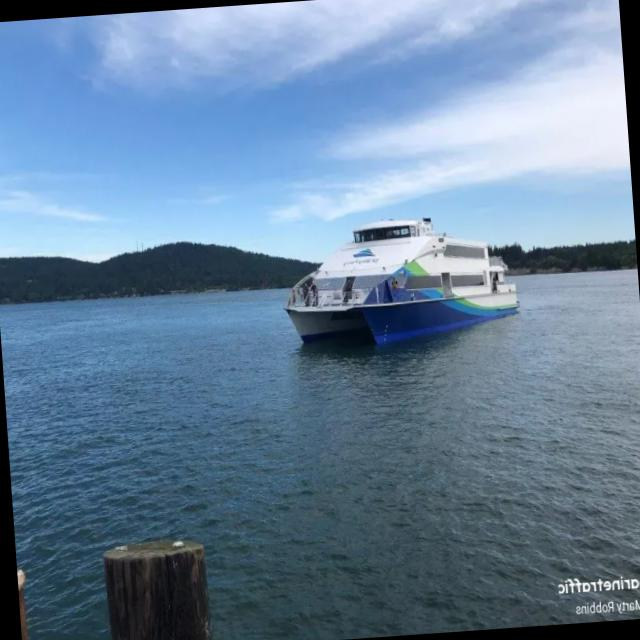Passenger: (285, 216, 519, 343)
